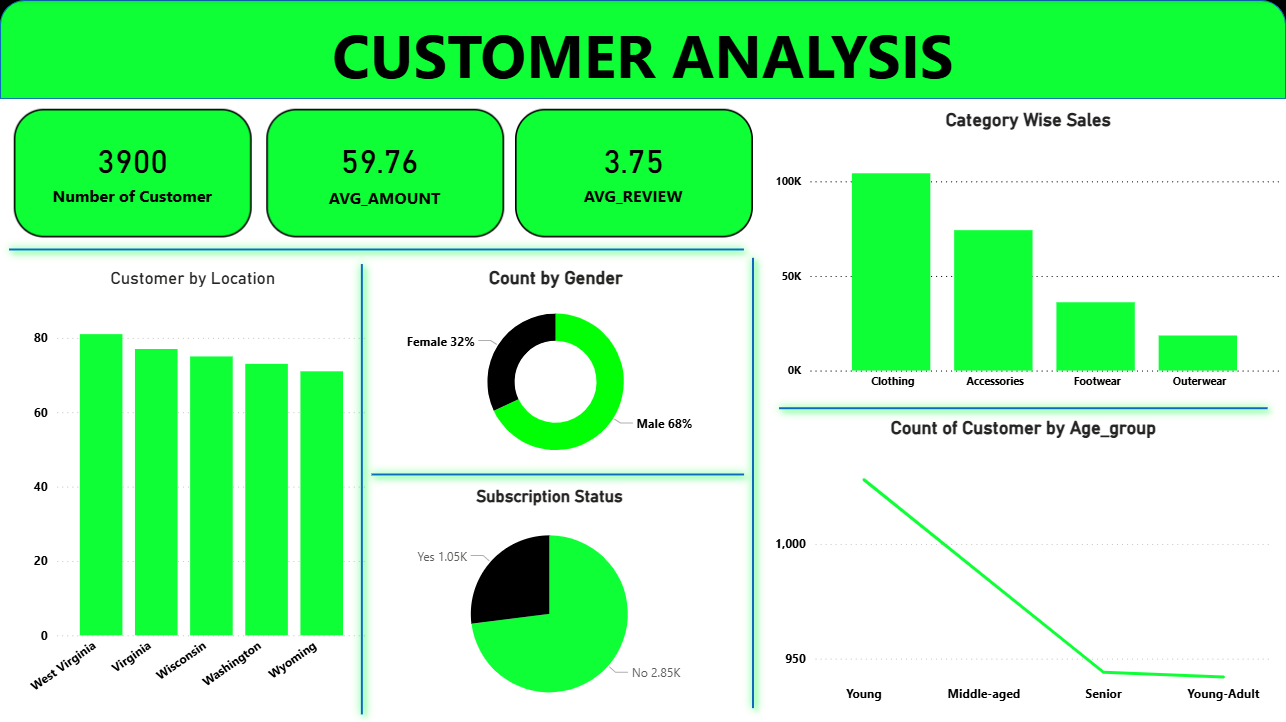

The dashboard page shown, as its layout file describes it:
{"tool":"powerbi","page":{"name":"Page 1","canvas":[1280,720],"ordinal":0},"visuals":[{"type":"shape","title":"CUSTOMER ANALYSIS","box":[0,0,1279.7,98.6],"z":0},{"type":"donutChart","title":"Count by Gender","fields":{"Y":["CountNonNull(Customer_shopping.Gender)"],"Category":["Customer_shopping.Gender"]},"box":[370.4,266.2,364.8,207],"z":1000},{"type":"lineClusteredColumnComboChart","title":"Category Wise Sales","fields":{"Y":["Sum(Customer_shopping.Purchase Amount (USD))"],"Category":["Customer_shopping.Category"]},"box":[766.2,108.5,514.1,288.7],"z":2000},{"type":"lineChart","title":"Count of Customer by Age_group","fields":{"Category":["Customer_shopping.Age_group"],"Y":["CountNonNull(Customer_shopping.Customer Segment)"]},"box":[766.2,415.5,504.2,293],"z":3000},{"type":"advanceCardE03760C5AB684758B56AA29F9E6C257B","fields":{"mainMeasure":["Customer_shopping.Number of Customer"]},"box":[14.1,108.5,236.6,128.2],"z":4000},{"type":"advanceCardE03760C5AB684758B56AA29F9E6C257B","fields":{"mainMeasure":["Customer_shopping.AVG_AMOUNT"]},"box":[264.8,108.5,236.6,128.2],"z":5000},{"type":"advanceCardE03760C5AB684758B56AA29F9E6C257B","fields":{"mainMeasure":["Customer_shopping.AVG_REVIEW"]},"box":[512.7,108.5,236.6,128.2],"z":6000},{"type":"shape","box":[0,173.2,749.3,150.7],"z":6001},{"type":"shape","box":[670.4,247.9,157.7,466.2],"z":6003},{"type":"lineStackedColumnComboChart","title":"Customer by Location","fields":{"Y":["Customer_shopping.Number of Customer"],"Category":["Customer_shopping.Location"]},"box":[14.1,266.2,356.3,442.3],"z":6004},{"type":"pieChart","title":"Subscription Status","fields":{"Y":["CountNonNull(Customer_shopping.Subscription Status)"],"Series":["Customer_shopping.Subscription Status"]},"box":[364.8,484.5,364.8,235.2],"z":6005},{"type":"shape","box":[360.6,397.2,388.7,150.7],"z":6006},{"type":"shape","box":[766.2,331,504.2,150.7],"z":6007},{"type":"shape","box":[312.7,253.5,95.8,466.2],"z":6008}]}

Visuals, with their boxes in screenshot pixels (x1, y1, x2, y2), scaled from the page's 1280x720 canvas onto the 1286x722 screenshot:
"CUSTOMER ANALYSIS" shape: detection(0, 0, 1285, 99)
"Count by Gender" donutChart: detection(372, 267, 739, 475)
"Category Wise Sales" lineClusteredColumnComboChart: detection(770, 109, 1285, 398)
"Count of Customer by Age_group" lineChart: detection(770, 417, 1276, 710)
advanceCardE03760C5AB684758B56AA29F9E6C257B - Customer_shopping.Number of Customer: detection(14, 109, 252, 237)
advanceCardE03760C5AB684758B56AA29F9E6C257B - Customer_shopping.AVG_AMOUNT: detection(266, 109, 504, 237)
advanceCardE03760C5AB684758B56AA29F9E6C257B - Customer_shopping.AVG_REVIEW: detection(515, 109, 753, 237)
shape: detection(0, 174, 753, 325)
shape: detection(674, 249, 832, 716)
"Customer by Location" lineStackedColumnComboChart: detection(14, 267, 372, 710)
"Subscription Status" pieChart: detection(367, 486, 733, 721)
shape: detection(362, 398, 753, 549)
shape: detection(770, 332, 1276, 483)
shape: detection(314, 254, 410, 721)
